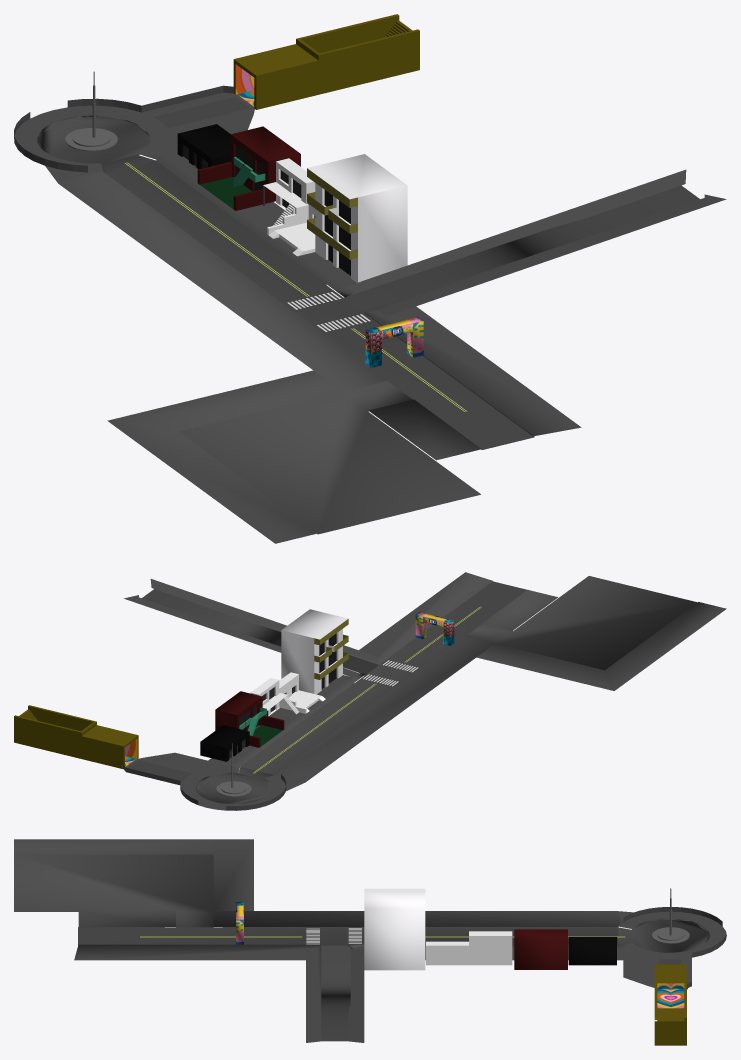
File: ESCALERAS DEL REGATAS.glb
3 renders of one model, top to bottom at view 1: azimuth 30°, elevation 25°; view 2: azimuth 150°, elevation 25°; view 3: azimuth 270°, elevation 25°, orthographic. The views are drawn at different scales.
Parts seen in each view (by area): view 1: Calle y Vereda, Escalinata, Edificio-4, Edificio-2, Edificio-3, Edificio-1, CartelRico, Circle.001; view 2: Calle y Vereda, Escalinata, Edificio-4, Edificio-2, Edificio-3, Edificio-1, CartelRico, Circle.001, Linea; view 3: Calle y Vereda, Edificio-4, Escalinata, Edificio-3, Edificio-2, Edificio-1, Circle.001, Linea.
Boxes of the visible parts, <box> form: Calle y Vereda: <box>14,85,726,543</box>; Escalinata: <box>233,14,419,109</box>; Edificio-4: <box>307,154,407,282</box>; Edificio-2: <box>197,126,300,210</box>; Edificio-3: <box>263,158,315,256</box>; Edificio-1: <box>177,124,230,169</box>; CartelRico: <box>365,317,423,367</box>; Circle.001: <box>65,71,117,151</box>; Calle y Vereda: <box>122,572,726,810</box>; Escalinata: <box>14,705,138,769</box>; Edificio-4: <box>281,609,348,694</box>; Edificio-2: <box>215,691,284,747</box>; Edificio-3: <box>250,672,325,715</box>; Edificio-1: <box>200,725,249,761</box>; CartelRico: <box>415,612,454,645</box>; Circle.001: <box>216,743,251,796</box>; Linea: <box>253,606,481,773</box>; Calle y Vereda: <box>14,839,726,1042</box>; Edificio-4: <box>364,888,425,970</box>; Escalinata: <box>654,964,686,1045</box>; Edificio-3: <box>426,931,512,965</box>; Edificio-2: <box>514,929,567,969</box>; Edificio-1: <box>568,937,616,965</box>; Circle.001: <box>652,888,689,943</box>; Linea: <box>140,936,624,937</box>.
Size of the model in its own units: 200 by 26.21 by 264.
20 materials, 2 textured.
